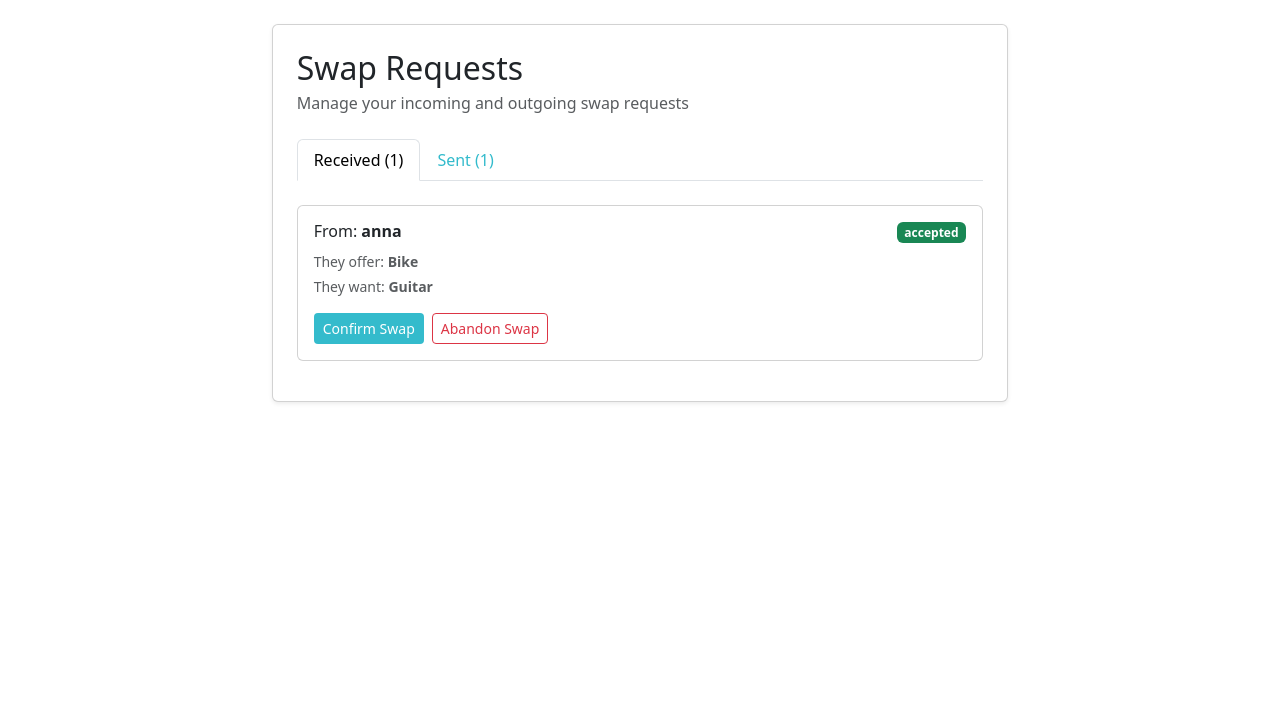
Test: SwapRequestsPage › abandoning an accepted received swap asks for confirmation first
The image size is (1280, 720).
Click the button "Abandon Swap".
click(490, 328)  # box [432,313,548,344]
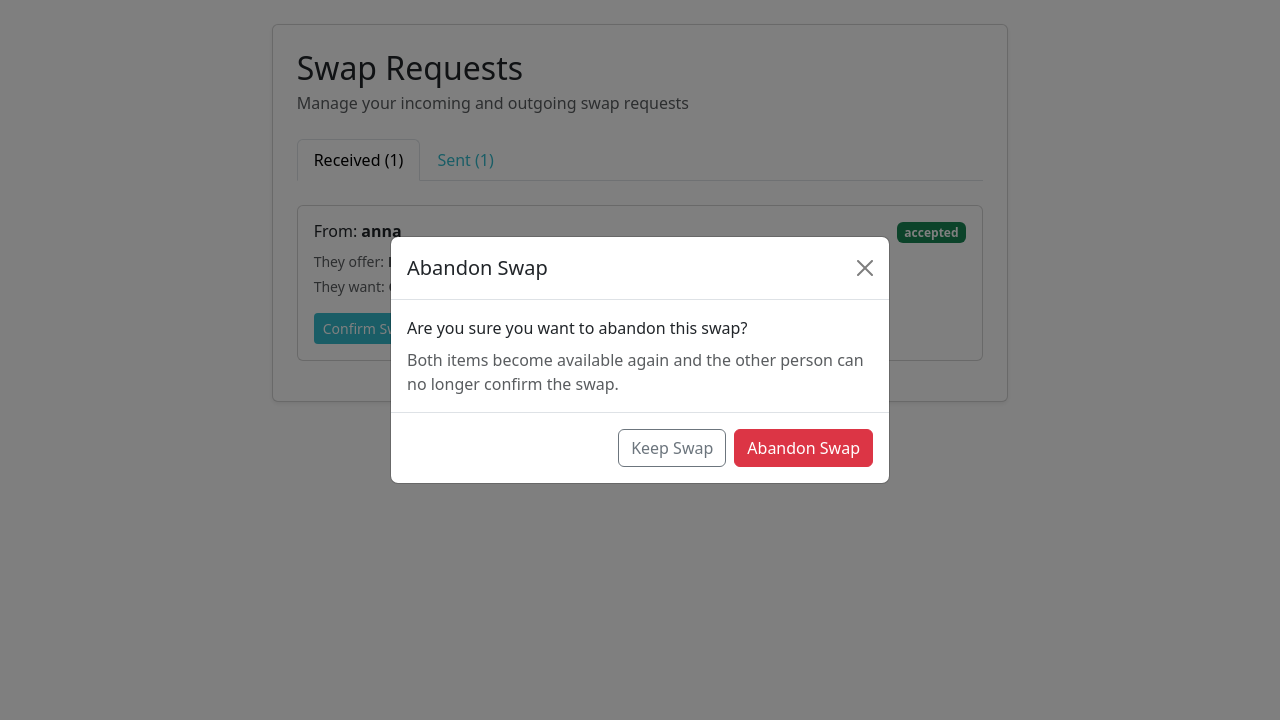
Result: the text "Are you sure you want to abandon this swap?" is shown at [407,317,747,339]
Click the button "Keep Swap".
click(672, 448)  # box [618,429,726,467]
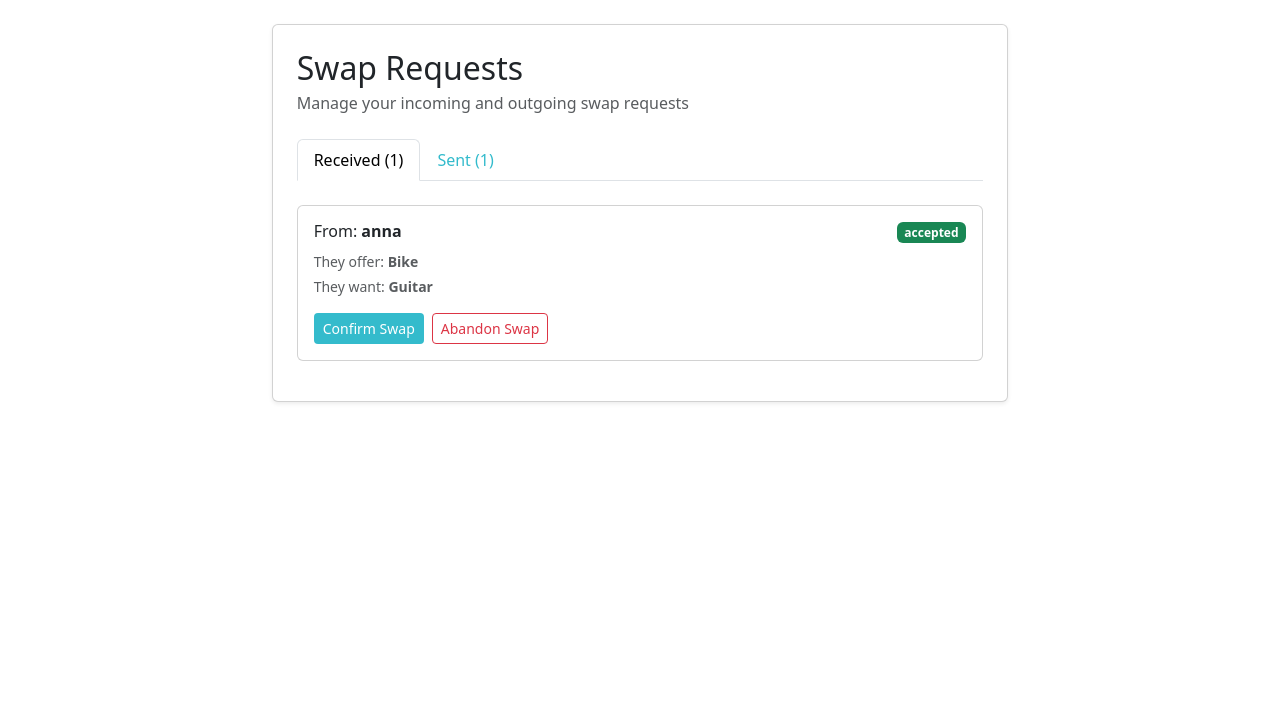
Result: the text "Are you sure you want to abandon this swap" is gone
